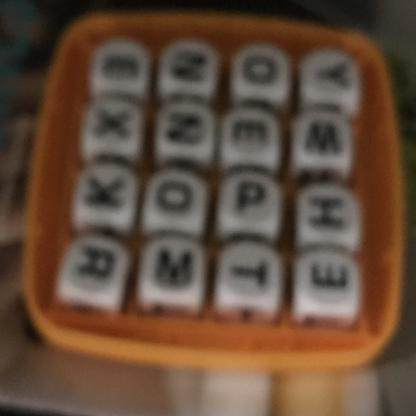e: (295, 243, 361, 305), (92, 39, 145, 96), (219, 111, 279, 160)
h: (299, 188, 358, 240)
k: (78, 160, 132, 219)
m: (144, 239, 210, 303)
n: (160, 105, 218, 161), (169, 41, 215, 91)
o: (232, 52, 284, 100), (149, 177, 201, 223)
p: (226, 171, 271, 228)
r: (63, 238, 125, 298)
t: (224, 246, 275, 301)
w: (299, 111, 353, 165)
x: (82, 100, 145, 151)
y: (306, 52, 363, 107)
